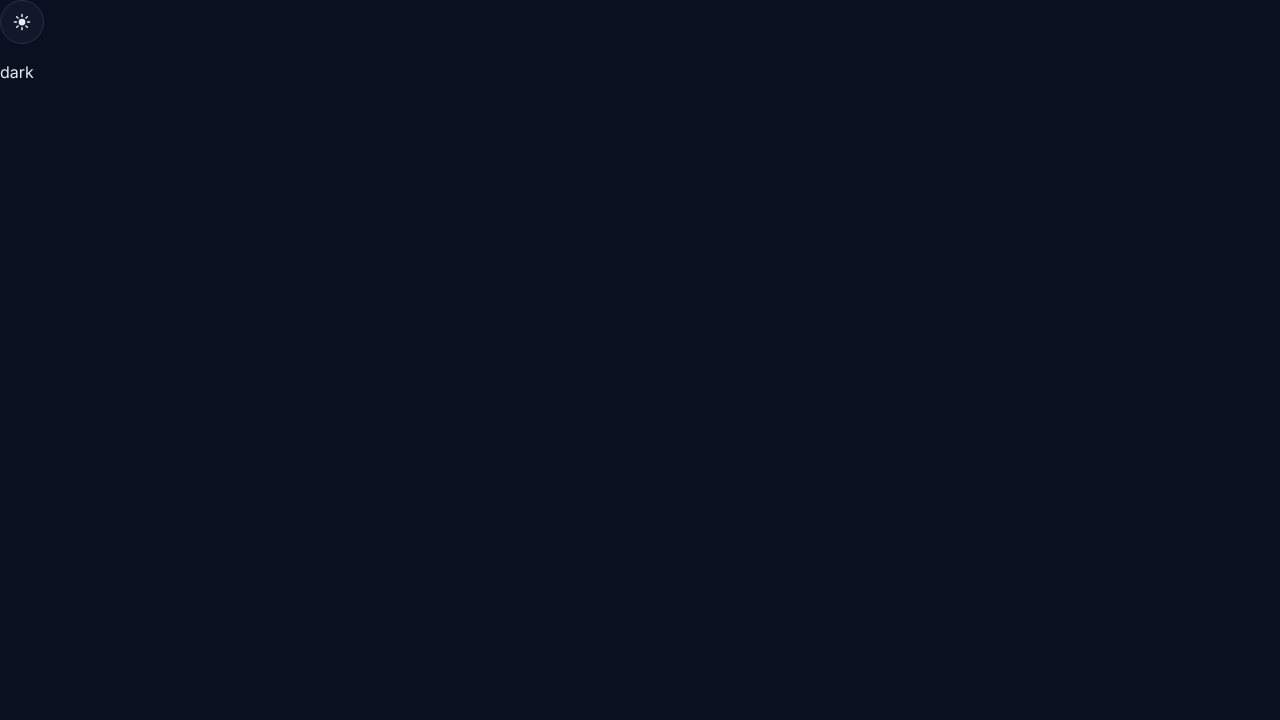
theme › switches theme on <html> and remembers the choice
The width and height of the screenshot is (1280, 720).
Click the button named "Switch to light theme". click: (22, 22)
box: [0, 0, 44, 44]
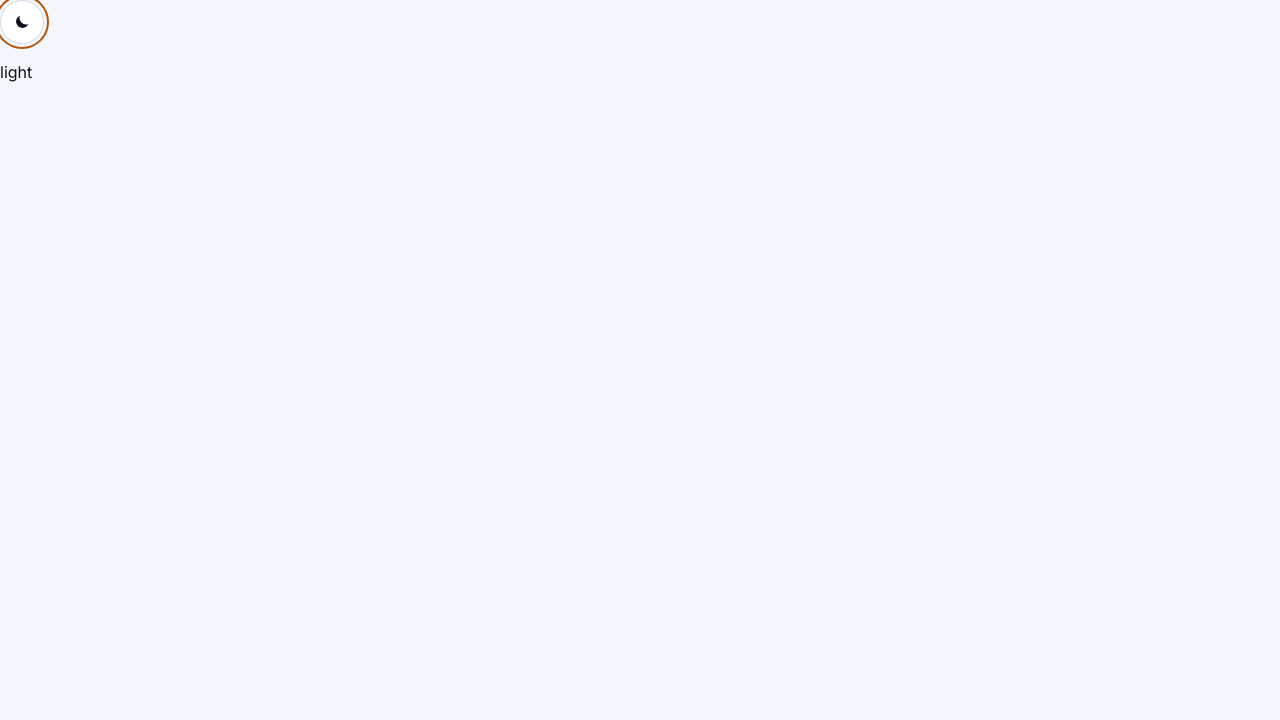
Expected: the text "light" is shown, [0, 62, 32, 82]
Expected: the button named "Switch to dark theme" is shown, [0, 0, 44, 44]
